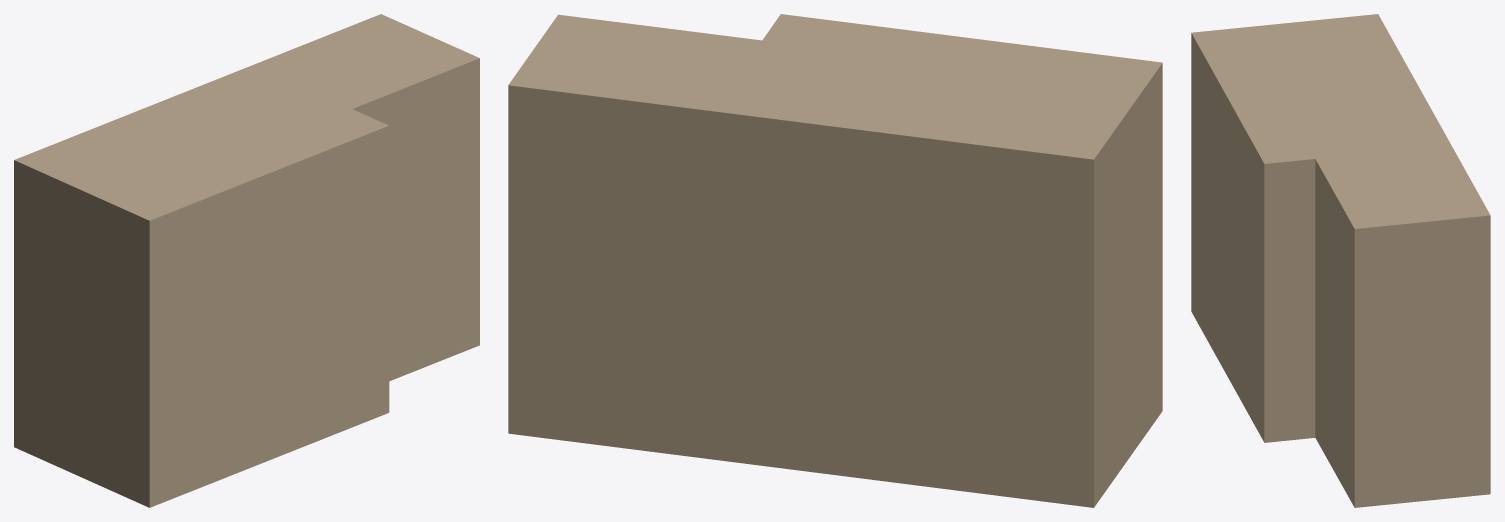
File: bld_99872299.dae
3 renders of one model, left to right at view 1: azimuth 30°, elevation 25°; view 2: azimuth 150°, elevation 25°; view 3: azimuth 270°, elevation 25°, orthographic. The views are drawn at different scales.
Visible parts, largest first — view 1: bld_99872299; view 2: bld_99872299; view 3: bld_99872299.
Boxes of the visible parts, x1,y1,x2,y2 form: bld_99872299: [14, 14, 479, 507]; bld_99872299: [508, 14, 1162, 507]; bld_99872299: [1191, 14, 1490, 507].
Size of the model in its own units: 13.23 by 7.78 by 8.
